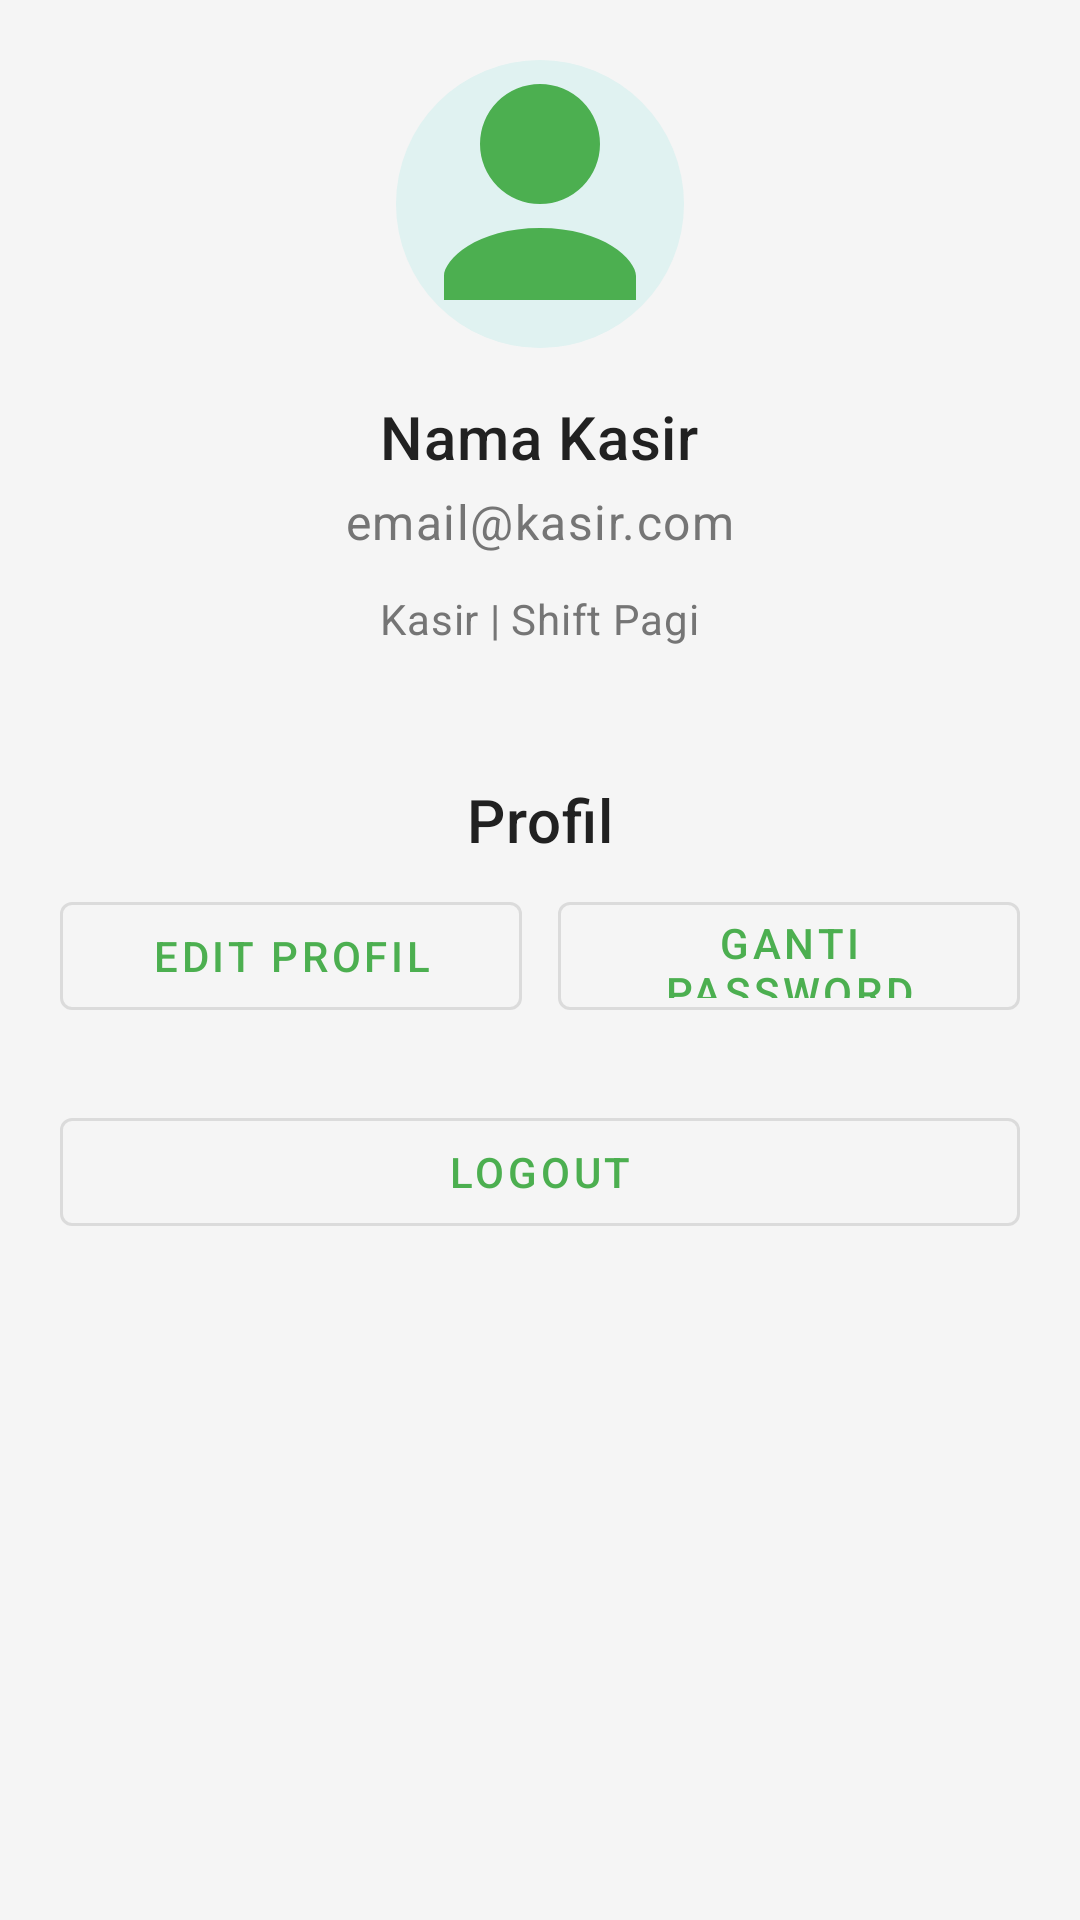

Screen size 1080 x 1920. Icon name, then its box in pixels as (x1, y1, x2, y2):
profile: (444, 84, 636, 300)
